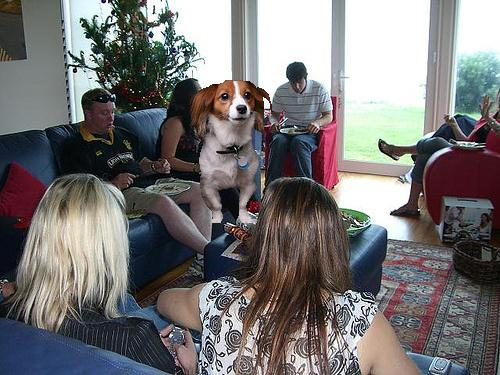tampered: (190, 81, 272, 223)
